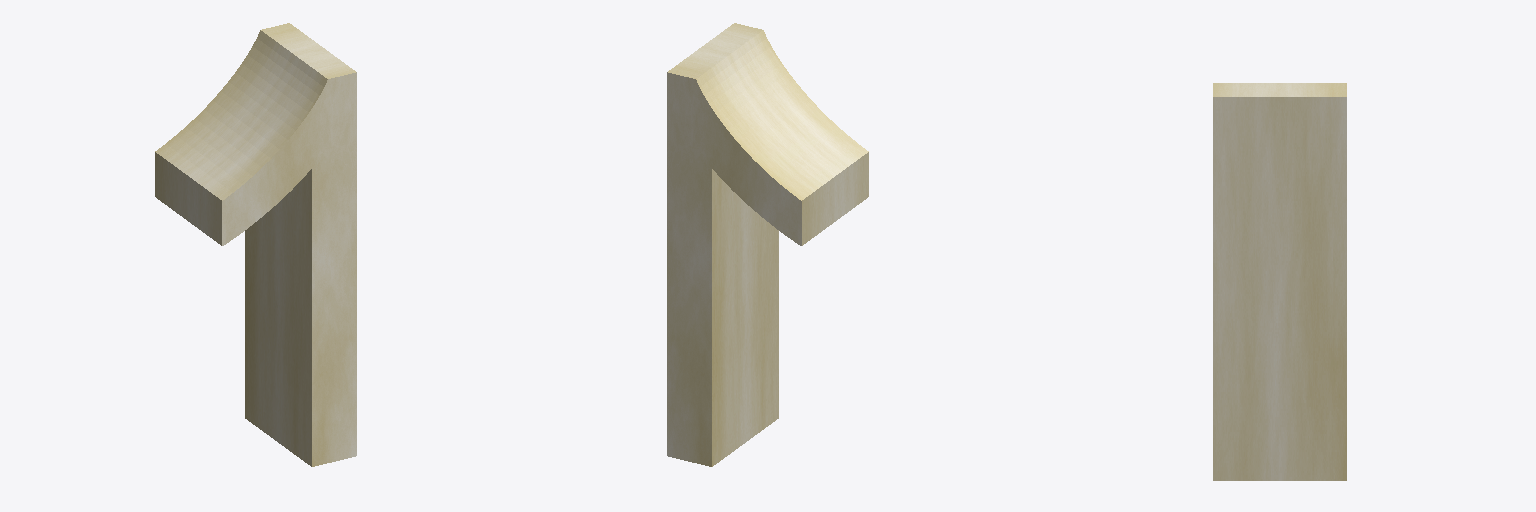
3 renders of one model, left to right at view 1: azimuth 30°, elevation 25°; view 2: azimuth 150°, elevation 25°; view 3: azimuth 270°, elevation 25°, orthographic.
Parts seen in each view (by area): view 1: Text001; view 2: Text001; view 3: Text001.
Boxes of the visible parts, x1,y1,x2,y2 form: Text001: [155, 23, 356, 466]; Text001: [667, 23, 868, 466]; Text001: [1213, 83, 1346, 480].
Bounding box in the file's own units: 2.36 × 6.44 × 2.05.
1 materials, 1 textured.